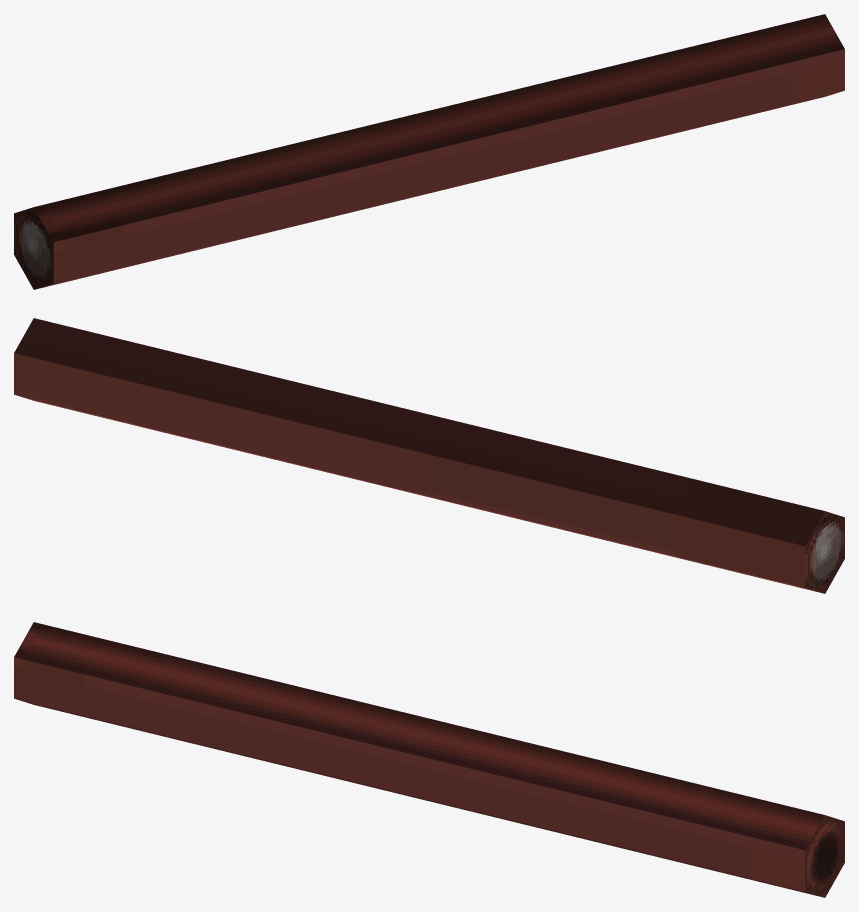
File: baton.glb
3 renders of one model, top to bottom at view 1: azimuth 30°, elevation 25°; view 2: azimuth 150°, elevation 25°; view 3: azimuth 330°, elevation 25°, orthographic.
Parts seen in each view (by area): view 1: baton_0; view 2: baton_0; view 3: baton_0.
Boxes of the visible parts, x1,y1,x2,y2 form: baton_0: (14, 14, 844, 289); baton_0: (14, 318, 844, 593); baton_0: (14, 622, 844, 897).
Bounding box in the file's own units: 16 × 1.6 × 1.39.
1 material, 1 textured.
